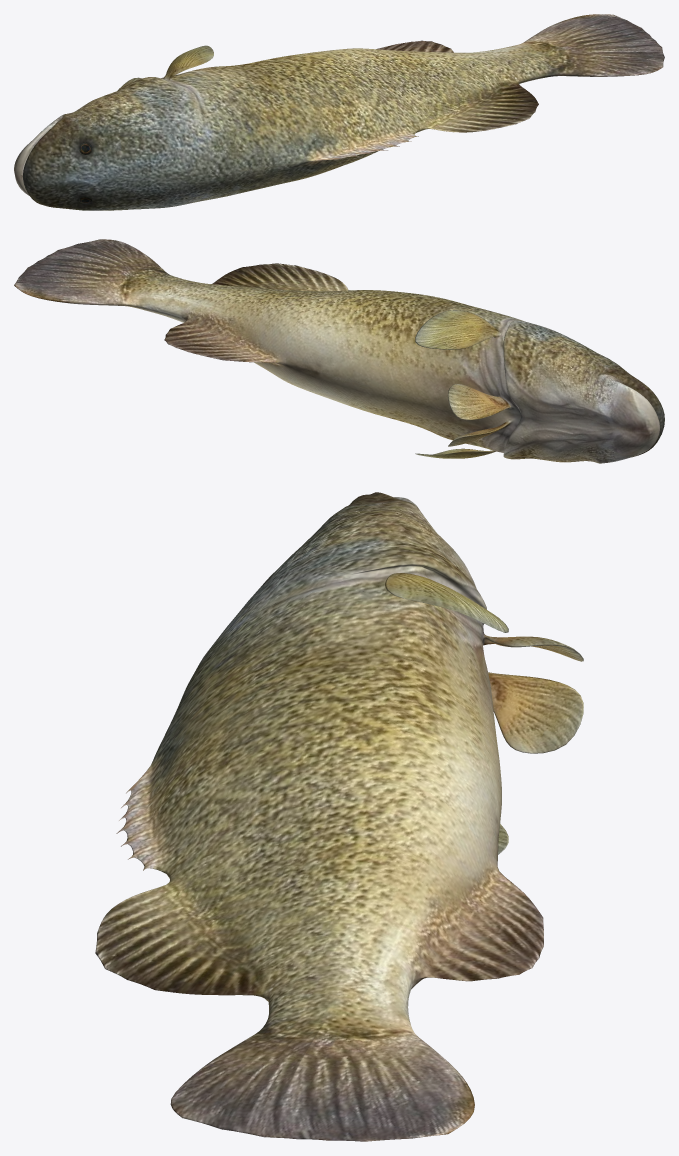
File: 12266_murray_cod_v2_L2.obj
3 views of the same model, one above another, from view 1: azimuth 30°, elevation 25°; view 2: azimuth 150°, elevation 25°; view 3: azimuth 270°, elevation 25° (orthographic). The views are drawn at different scales.
Parts seen in each view (by area): view 1: murray_cod; view 2: murray_cod; view 3: murray_cod.
Boxes of the visible parts, x1,y1,x2,y2 form: murray_cod: (14,14,664,210); murray_cod: (14,239,664,463); murray_cod: (95,492,583,1141).
Bounding box in the file's own units: 40.33 × 8.44 × 13.77.
1 material, 1 textured.
